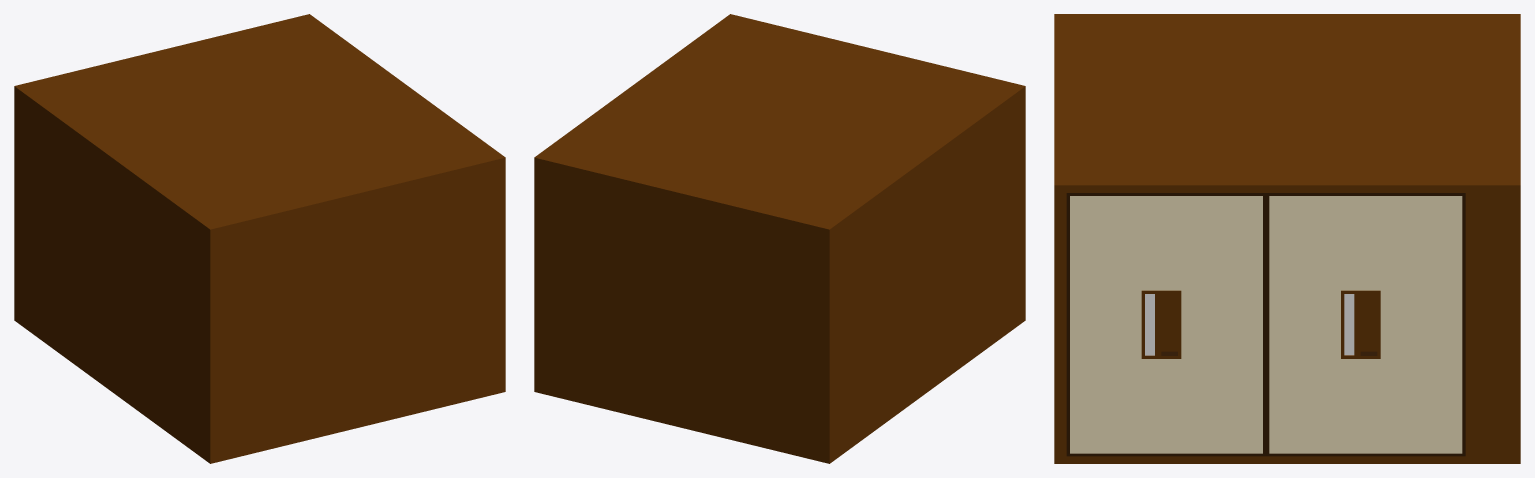
The picture shows the model from 3 angles, left to right: view 1: azimuth 30°, elevation 25°; view 2: azimuth 150°, elevation 25°; view 3: azimuth 270°, elevation 25°; orthographic projection. The views are drawn at different scales.
Visible parts, largest first — view 1: filing cabinet; view 2: filing cabinet; view 3: filing cabinet.
Boxes of the visible parts, x1,y1,x2,y2 form: filing cabinet: (14, 14, 505, 463); filing cabinet: (534, 14, 1025, 463); filing cabinet: (1054, 14, 1520, 463).
Bounding box in the file's own units: 24.45 × 18.5 × 28.07.
